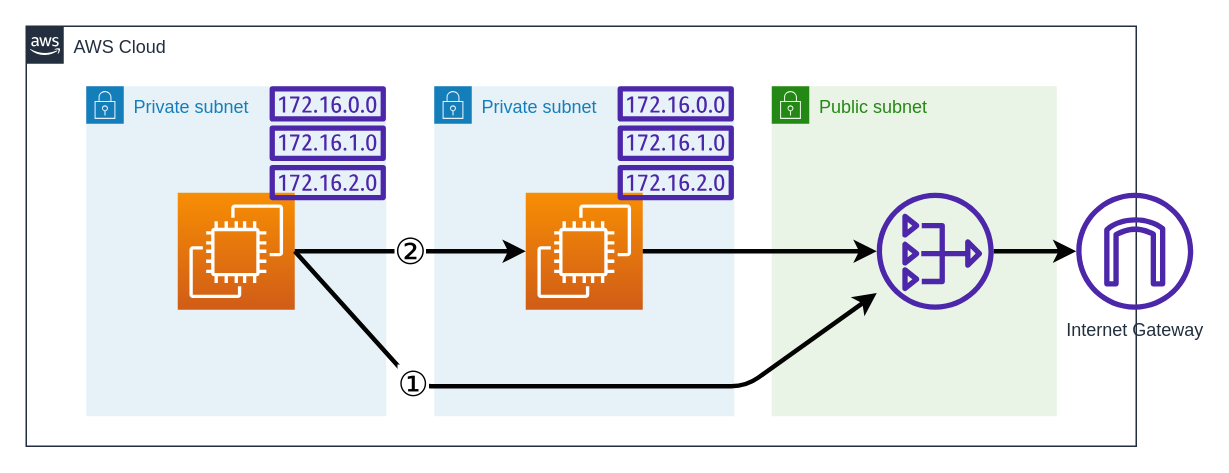
Image size: 1229x473. Some labels were removed from this diagram. The shapes that lost their labels are listed below. From the top down, each one's centre as x and y in pixels, then its label:
At [235,250]: "App Instance".
At [583,250]: "Proxy Instance".
At [934,250]: "NAT Gateway".
